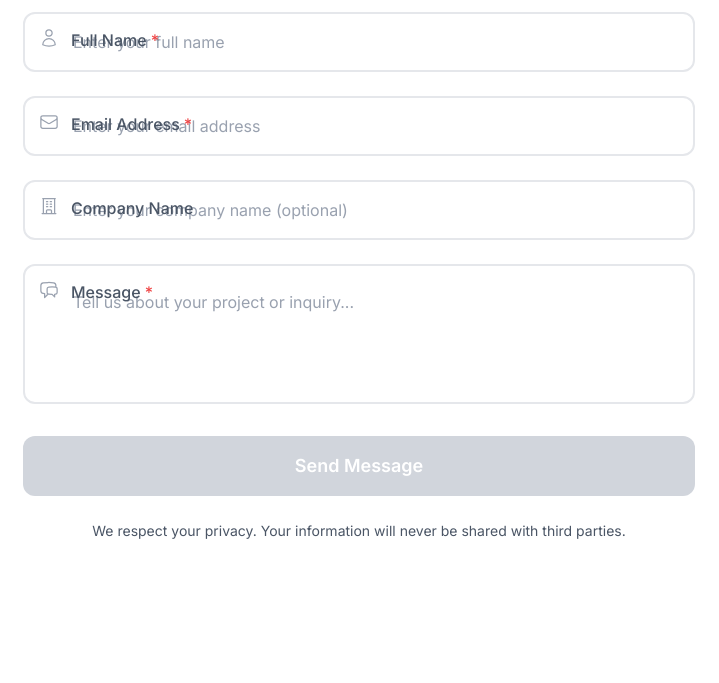
it: Accessibility - Form Labels and Error Messages › ContactForm Component › should announce success message to screen readers
The width and height of the screenshot is (719, 683).
Note: Fill and submit form
Type "John Doe" into the field labelled "Full Name*" at (359, 42), box [23,12,695,72]
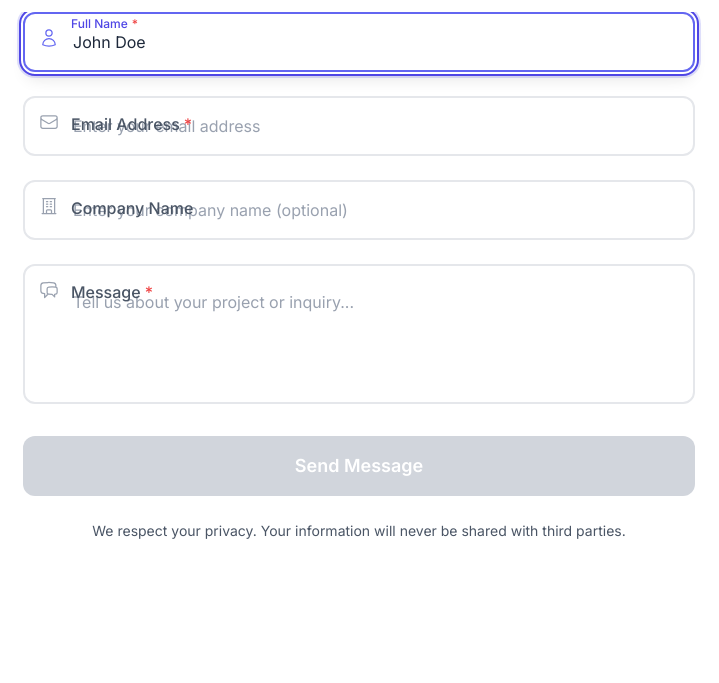
Type "john@example.com" into the field labelled "Email Address*" at (359, 126), box [23,96,695,156]
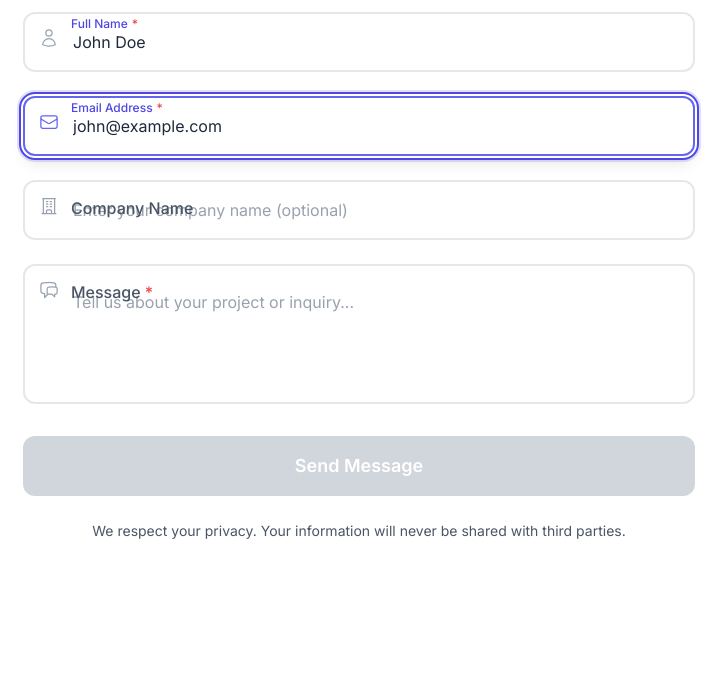
Type "This is a test message" into the text box labelled "Message*" at (359, 334), box [23,264,695,404]
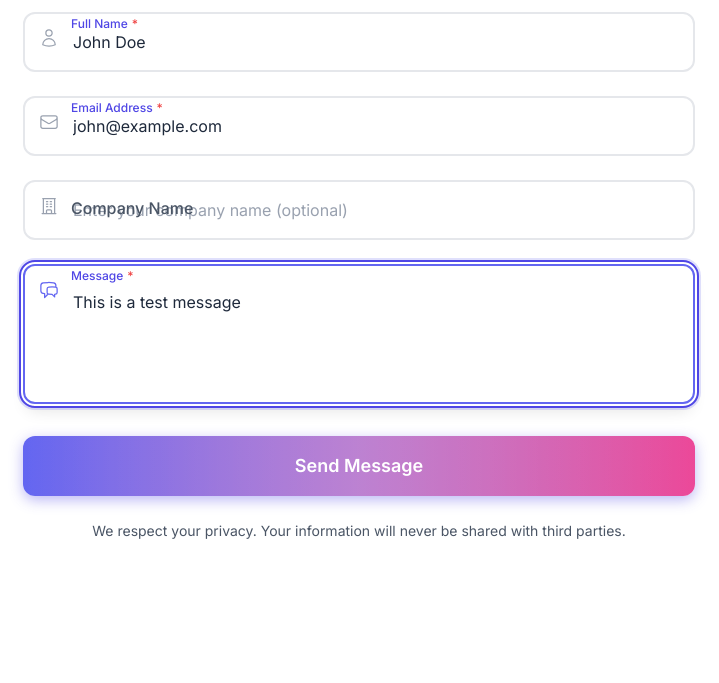
Click the button "Send Message" at (359, 466), box [23,436,695,496]
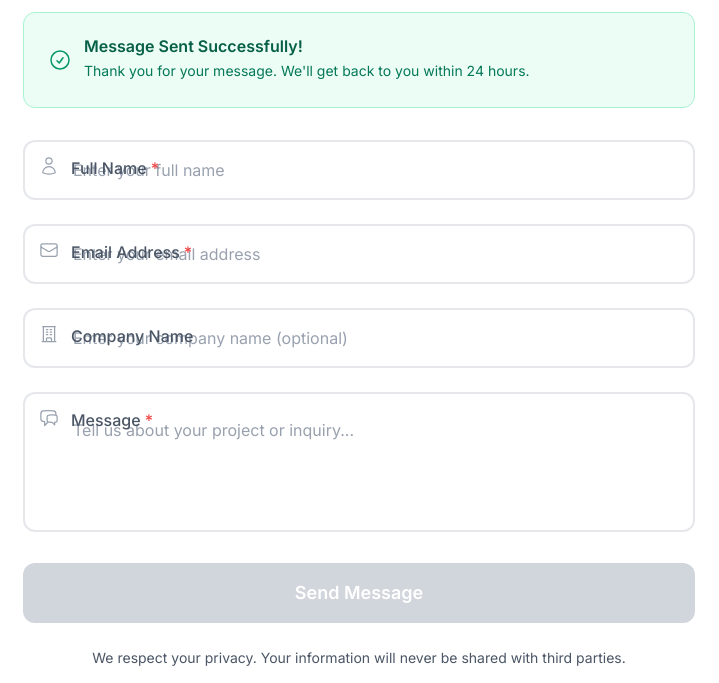
Now the heading "Message Sent Successfully!" is shown, box [84,36,303,56]
